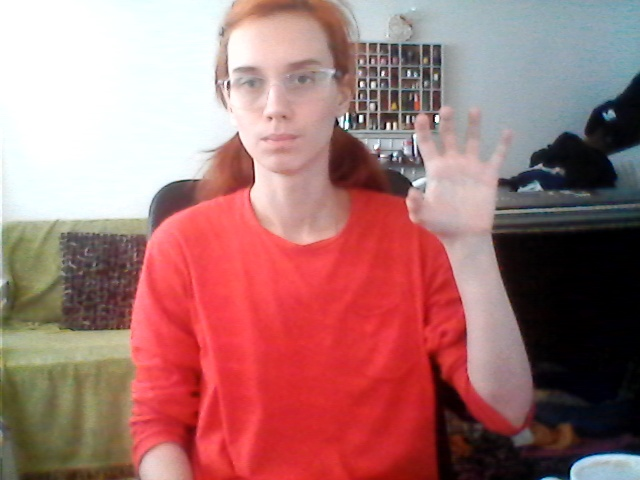budova: (402, 103, 513, 253)
